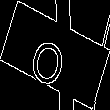O_N: (33, 23, 77, 87)
